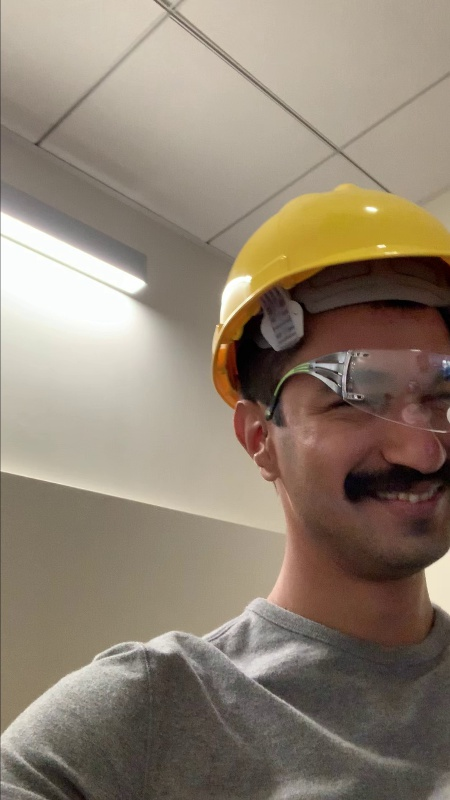helmet: (197, 171, 450, 357)
